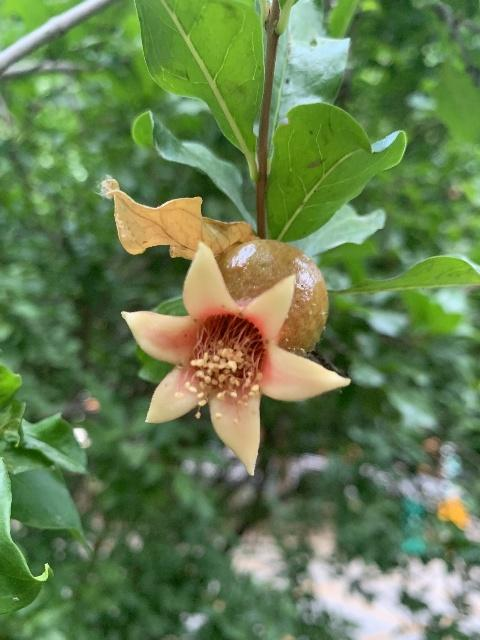early-fruit: (120, 235, 352, 477)
